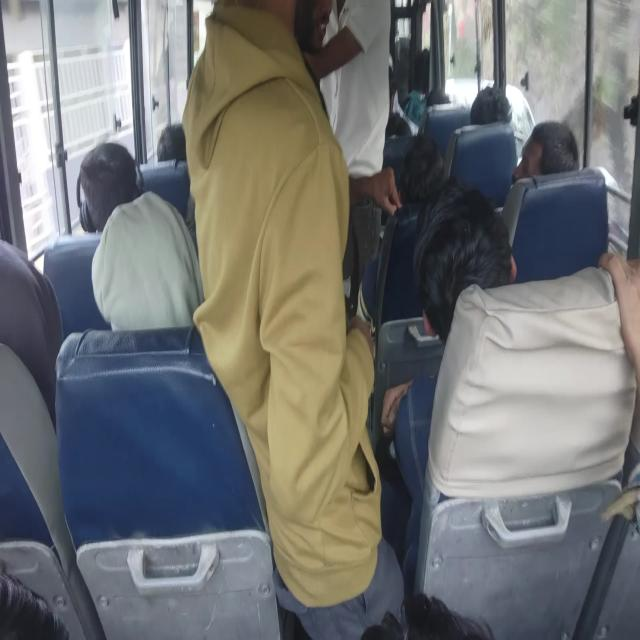person: (185, 0, 343, 425), (95, 205, 209, 353), (419, 207, 515, 343), (306, 0, 402, 105), (0, 245, 69, 385), (79, 150, 144, 216), (525, 127, 574, 197), (460, 79, 514, 137), (400, 137, 448, 197), (158, 122, 193, 160), (423, 80, 449, 112)
